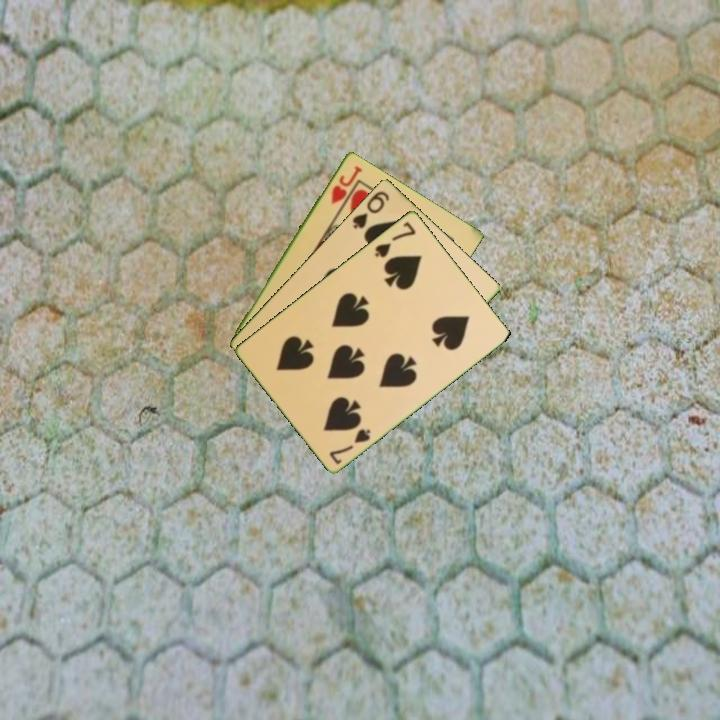6s: (349, 187, 392, 231)
7s: (371, 218, 419, 260), (326, 425, 374, 467)
Jh: (327, 162, 365, 207)
